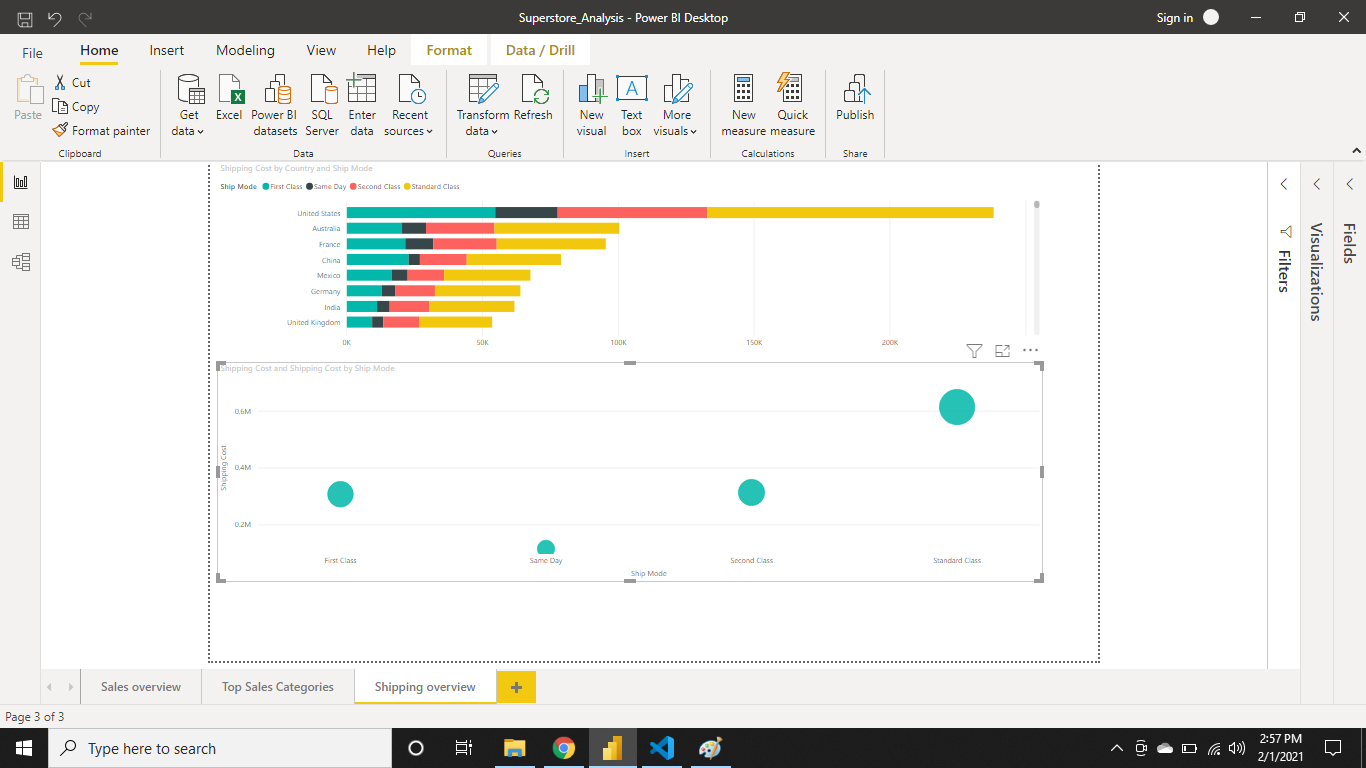

Layout of this report page (visuals, bound fields, positions):
{"tool":"powerbi","page":{"name":"Shipping overview","canvas":[1280,720],"ordinal":2},"visuals":[{"type":"barChart","fields":{"Category":["superstore_dataset2011-2015.Country"],"Y":["Sum(superstore_dataset2011-2015.Shipping Cost)"],"Series":["superstore_dataset2011-2015.Ship Mode"]},"box":[10.1,0,1191.8,278.5],"z":0},{"type":"scatterChart","fields":{"Y":["Sum(superstore_dataset2011-2015.Shipping Cost)"],"X":["superstore_dataset2011-2015.Ship Mode"],"Size":["Sum(superstore_dataset2011-2015.Shipping Cost)"]},"box":[10,288,1192,278],"z":1}]}

Visuals, with their boxes on the page's 1280x720 design canvas (x1, y1, x2, y2). These are canvas units, not pixel positions in the 1366x768 screenshot, which may show the page scaled, cropped or inside an application window:
barChart - superstore_dataset2011-2015.Country x Sum(superstore_dataset2011-2015.Shipping Cost): box=[10, 0, 1202, 278]
scatterChart - Sum(superstore_dataset2011-2015.Shipping Cost) x superstore_dataset2011-2015.Ship Mode: box=[10, 288, 1202, 566]
